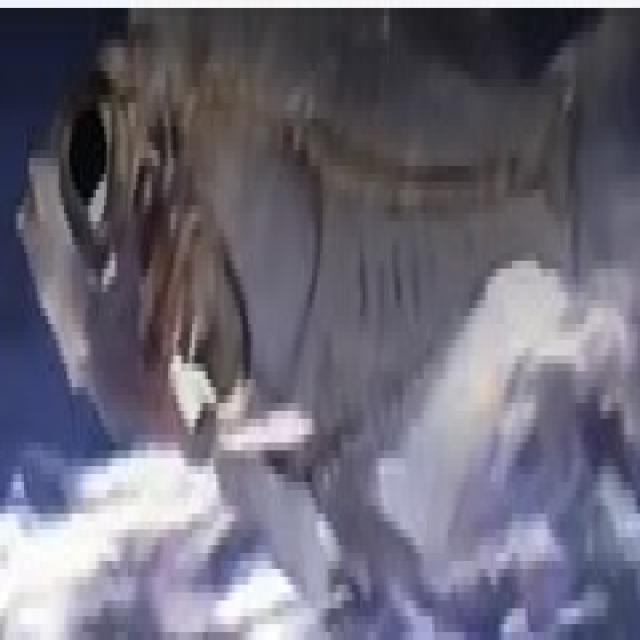Glass-Perchlet: (3, 2, 640, 526)
